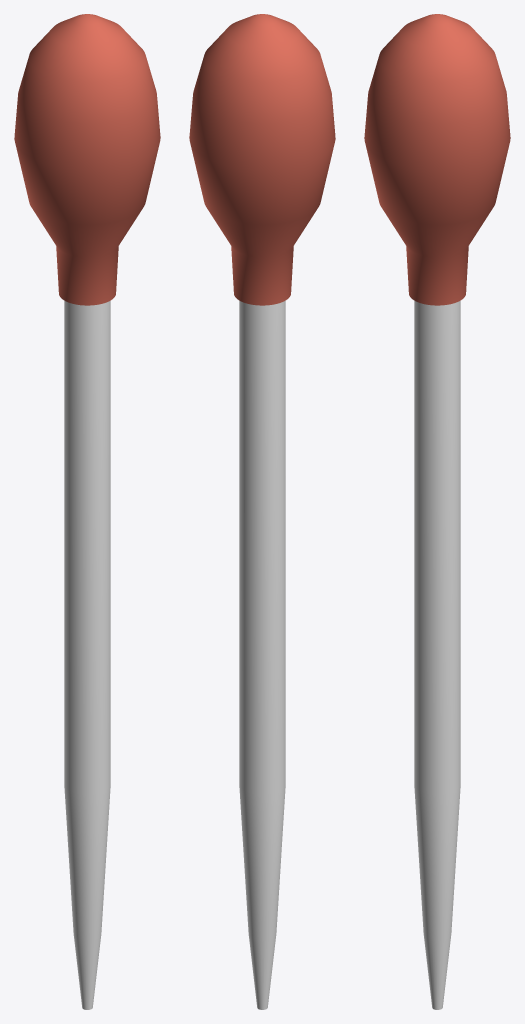
Rendered from pippet.glb.
The picture shows the model from 3 angles, left to right: view 1: azimuth 30°, elevation 25°; view 2: azimuth 150°, elevation 25°; view 3: azimuth 270°, elevation 25°; orthographic projection.
Visible parts, largest first — view 1: Pipette_Bau_Tron_V3; view 2: Pipette_Bau_Tron_V3; view 3: Pipette_Bau_Tron_V3.
Boxes of the visible parts, left/top/right/bottom form: Pipette_Bau_Tron_V3: left=14, top=14, right=160, bottom=1009; Pipette_Bau_Tron_V3: left=189, top=14, right=335, bottom=1009; Pipette_Bau_Tron_V3: left=364, top=14, right=510, bottom=1009.
Size of the model in its own units: 0.022 by 0.165 by 0.022.
